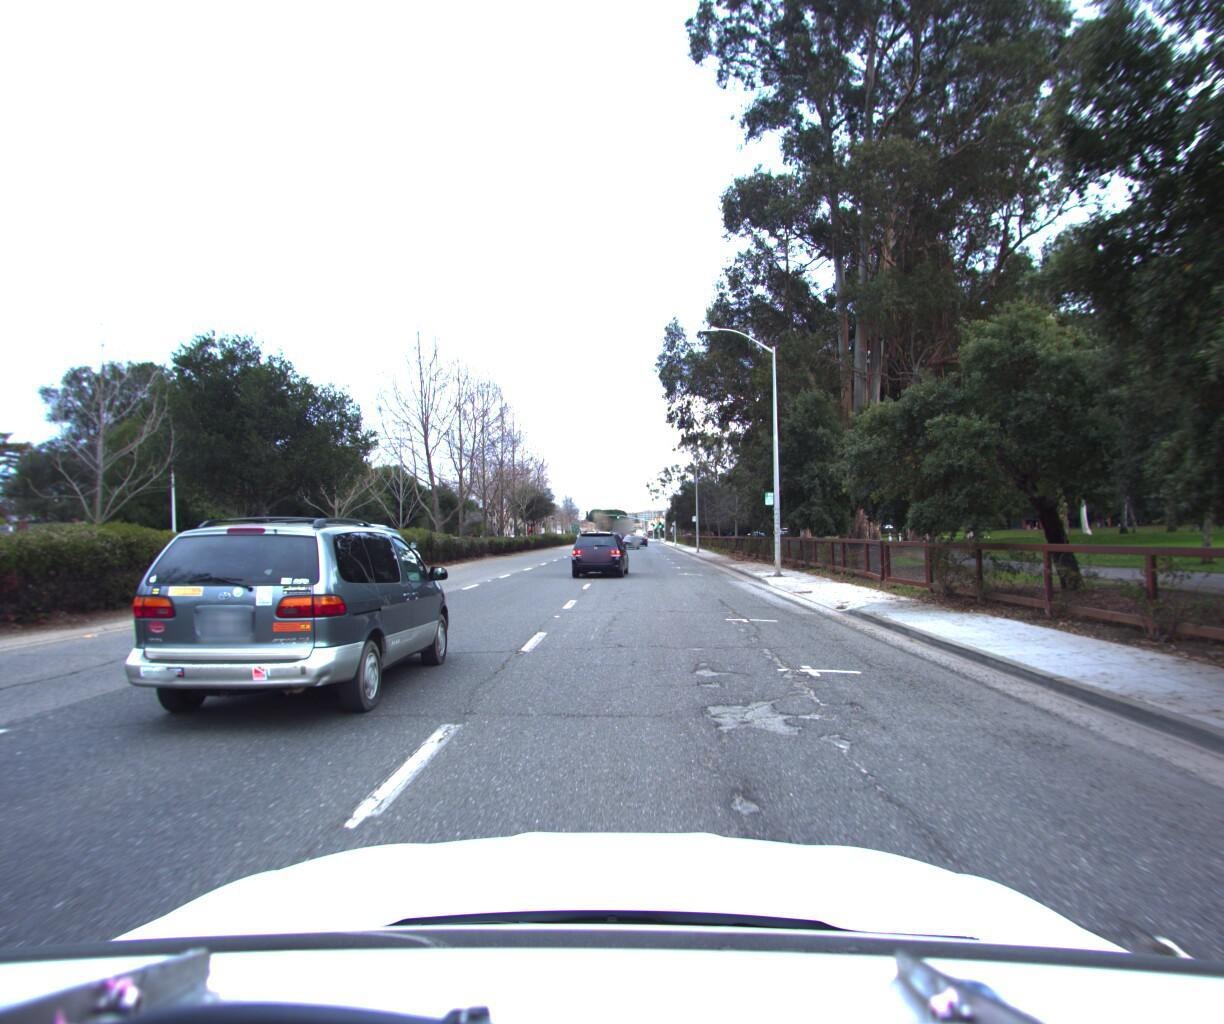car: (108, 507, 465, 738), (288, 516, 429, 604), (565, 527, 628, 575)
